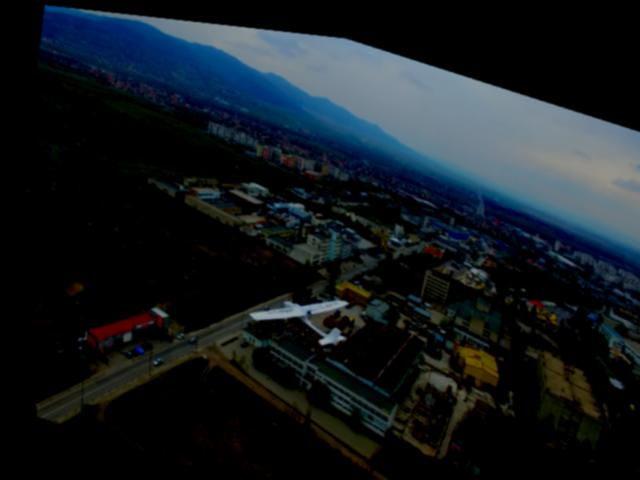plane: (239, 265, 346, 348)
